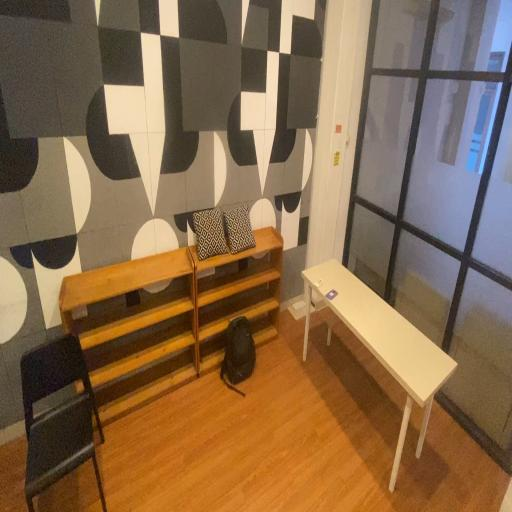bantal: (192, 208, 228, 259), (224, 205, 257, 257)
hp: (326, 284, 338, 303)
kursi: (16, 328, 107, 512)
lemari: (56, 242, 198, 435), (186, 220, 284, 369)
meja: (301, 254, 459, 495)
remote AC: (315, 276, 324, 290)
tas ransel: (220, 310, 259, 402)
